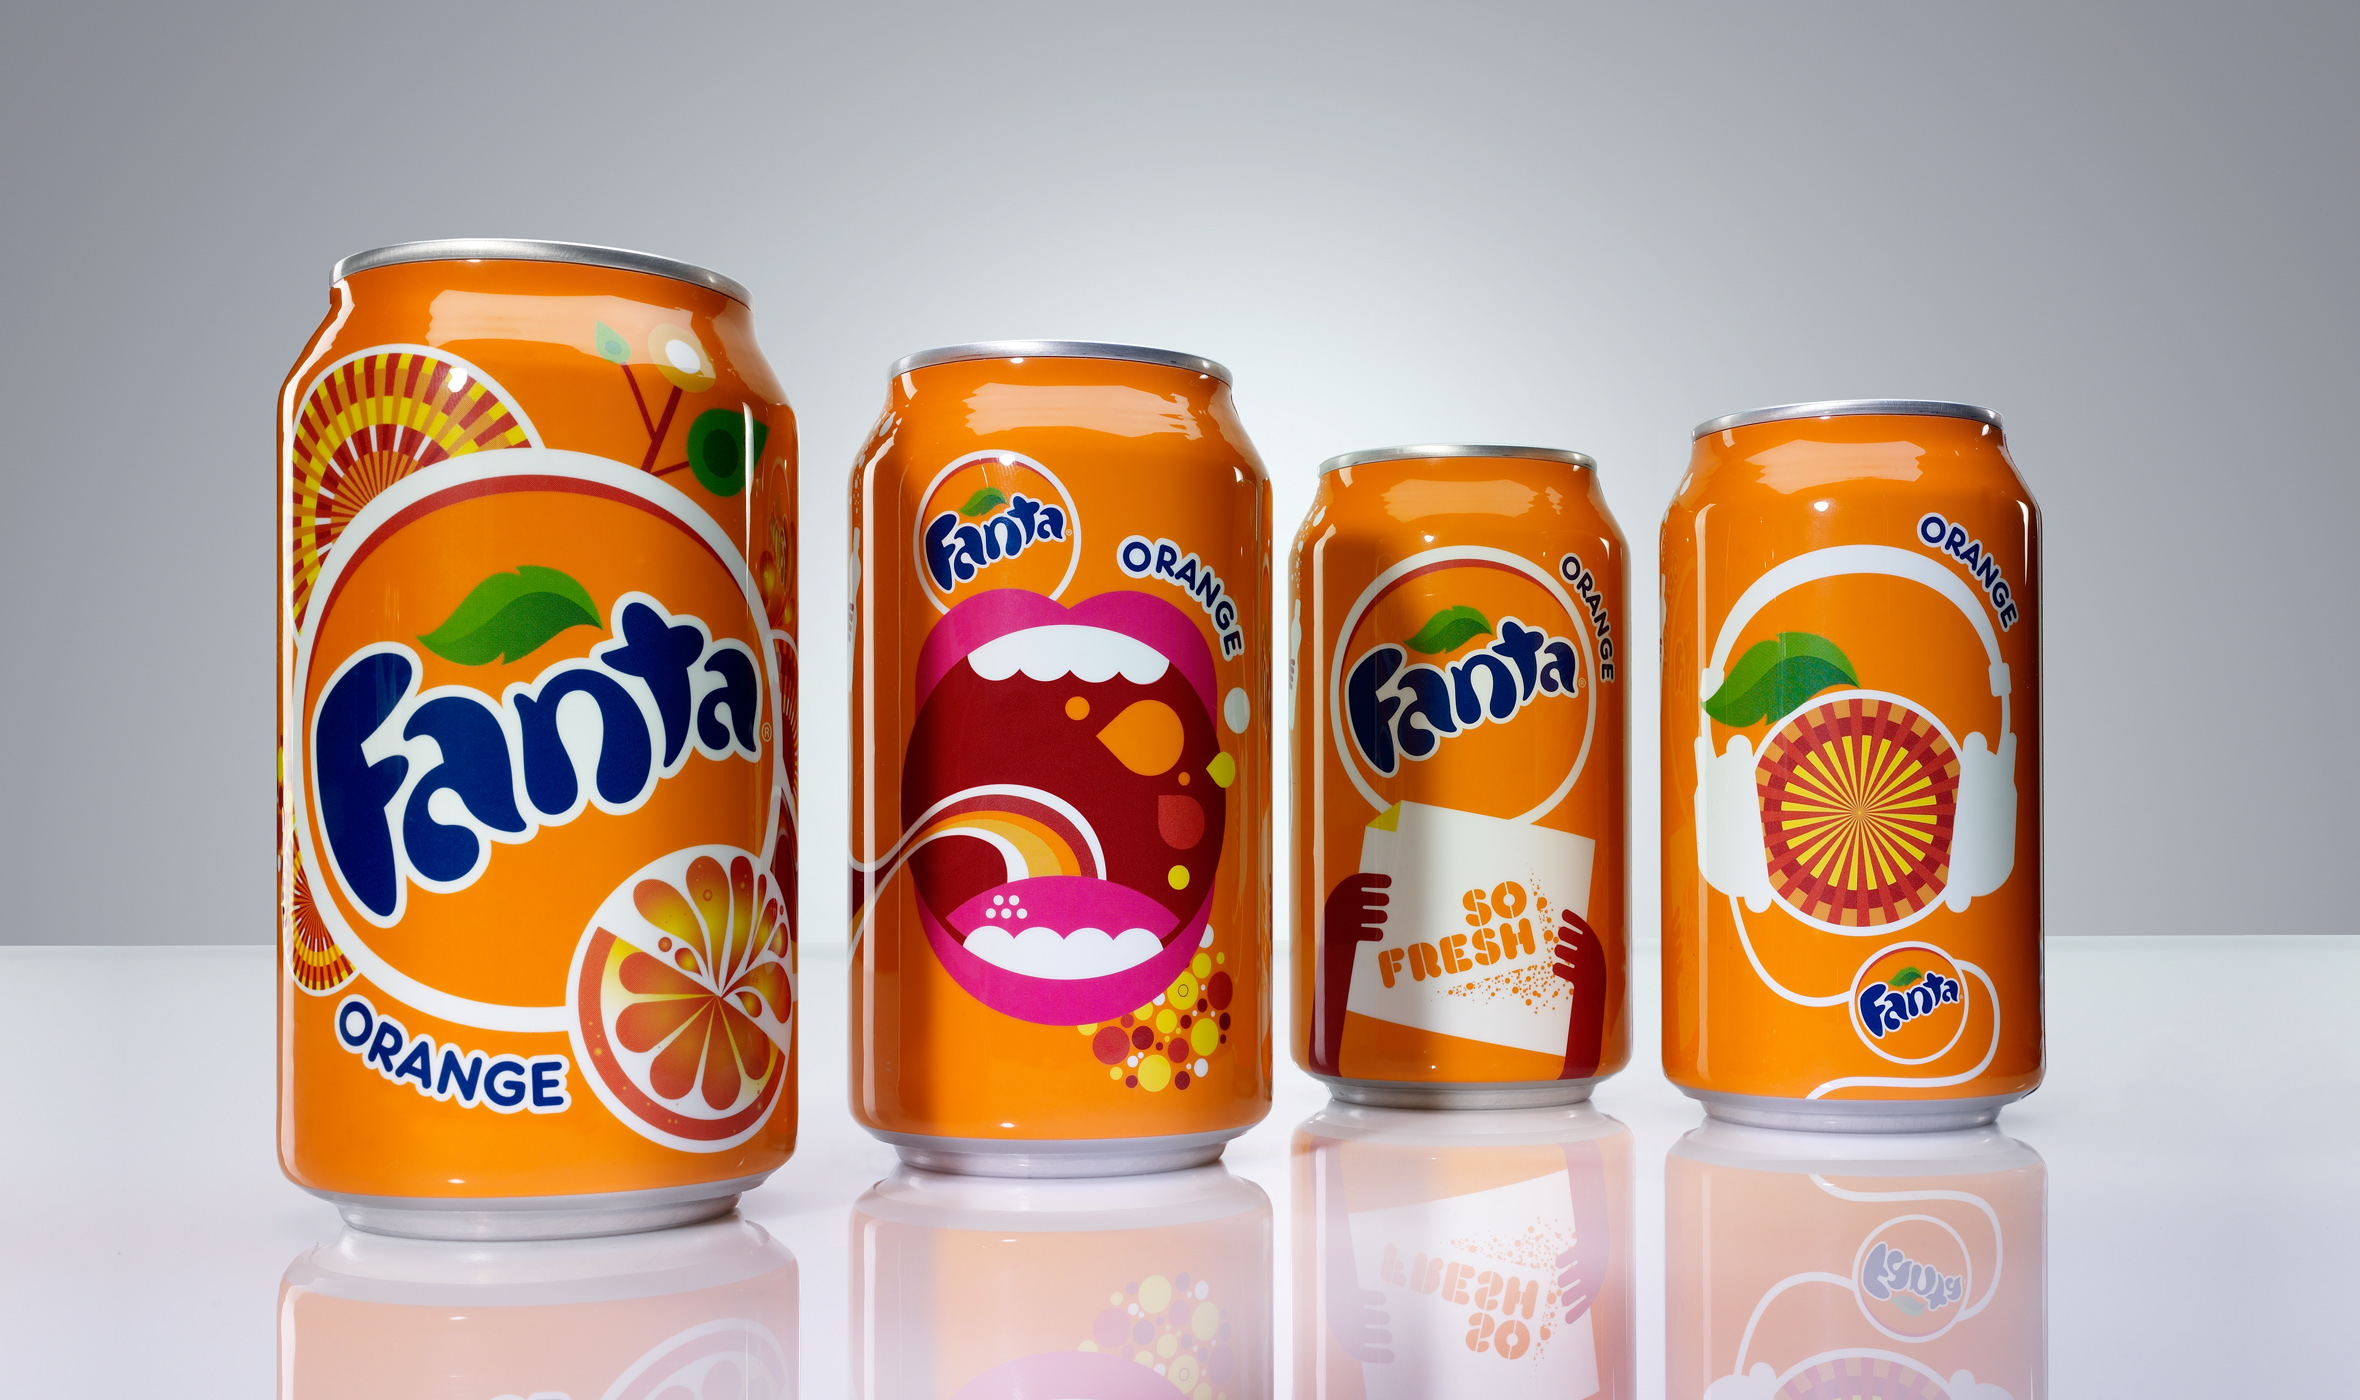fanta: (277, 263, 798, 1228), (1298, 462, 1622, 1112)
